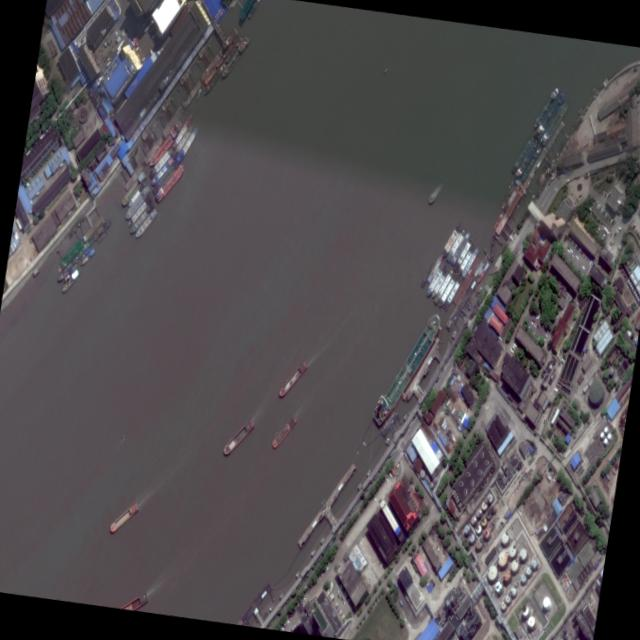ship: (372, 311, 444, 429), (203, 35, 244, 98), (534, 90, 566, 141), (539, 99, 569, 148), (204, 41, 235, 86), (155, 162, 186, 204), (222, 418, 255, 457), (221, 36, 249, 80), (533, 86, 560, 129), (278, 360, 307, 399), (125, 184, 151, 222), (515, 138, 538, 180), (129, 200, 155, 237), (109, 502, 139, 534), (121, 171, 146, 208), (176, 125, 199, 165), (149, 133, 174, 169), (152, 162, 178, 196), (520, 144, 542, 184), (127, 194, 152, 229), (271, 415, 296, 450), (172, 122, 195, 160), (512, 135, 534, 174), (172, 111, 194, 150), (149, 146, 174, 180), (151, 154, 175, 188), (433, 268, 454, 306), (60, 237, 84, 270), (438, 272, 459, 309), (426, 261, 446, 299), (453, 237, 474, 273), (446, 227, 467, 263), (442, 222, 463, 258), (135, 208, 157, 241), (443, 275, 463, 311), (451, 231, 471, 266), (461, 246, 480, 280), (457, 243, 476, 276), (83, 215, 105, 243), (61, 267, 81, 296), (431, 268, 449, 300), (427, 253, 444, 285), (58, 256, 78, 283), (427, 178, 446, 206), (120, 593, 148, 611), (128, 181, 146, 208), (503, 185, 520, 213), (93, 217, 112, 242), (76, 238, 94, 261), (501, 182, 516, 209), (420, 261, 435, 288), (63, 262, 78, 284), (474, 255, 488, 278), (80, 247, 96, 267), (477, 263, 490, 284), (493, 212, 505, 231), (478, 260, 488, 277), (80, 247, 91, 261), (493, 232, 503, 247), (483, 246, 491, 261), (98, 232, 107, 244), (491, 237, 495, 262), (196, 88, 202, 102)
small-vehicle: (498, 335, 503, 342), (389, 472, 393, 479), (596, 203, 600, 209), (634, 227, 638, 232), (583, 254, 587, 259), (571, 253, 575, 258), (592, 212, 596, 217), (595, 217, 599, 222), (341, 615, 345, 620), (292, 610, 296, 615), (290, 612, 294, 617), (287, 615, 291, 620), (561, 358, 565, 363), (367, 577, 371, 582), (598, 204, 601, 210), (600, 207, 603, 213), (537, 314, 540, 320), (332, 597, 335, 603), (386, 477, 389, 483), (337, 609, 341, 613), (301, 598, 305, 602), (284, 621, 288, 625), (283, 623, 287, 627), (591, 211, 594, 216), (614, 233, 617, 238), (611, 239, 614, 244), (616, 250, 619, 255), (590, 260, 593, 265), (581, 251, 584, 256), (577, 246, 580, 251), (576, 245, 579, 250), (573, 242, 576, 247), (570, 238, 573, 243), (570, 249, 573, 254), (582, 265, 585, 270), (616, 229, 619, 234), (567, 249, 570, 254), (604, 193, 607, 198), (599, 206, 602, 211), (601, 209, 604, 214), (602, 211, 605, 216), (605, 213, 608, 218), (606, 214, 609, 219), (610, 219, 613, 224), (612, 221, 615, 226), (597, 218, 600, 223), (595, 215, 598, 220), (576, 255, 579, 260), (338, 610, 341, 615), (335, 602, 338, 607), (331, 595, 334, 600), (330, 593, 333, 598), (289, 613, 292, 618), (286, 619, 289, 624), (339, 583, 342, 588), (536, 313, 539, 318), (340, 585, 343, 590), (531, 321, 534, 326), (545, 333, 548, 338), (379, 498, 382, 503), (379, 561, 382, 566), (345, 594, 348, 599), (344, 592, 347, 597), (615, 232, 618, 236), (608, 245, 611, 249), (607, 247, 610, 251), (586, 256, 588, 262), (579, 250, 582, 254), (578, 248, 581, 252), (636, 232, 639, 236), (637, 233, 640, 237), (607, 216, 610, 220), (598, 220, 601, 224), (341, 597, 344, 601), (340, 612, 343, 616), (336, 605, 339, 609), (304, 595, 308, 598), (337, 595, 340, 599), (532, 319, 535, 323), (534, 324, 537, 328), (537, 325, 540, 329), (543, 338, 546, 342), (373, 497, 376, 501), (380, 563, 383, 567), (347, 598, 350, 602), (343, 591, 346, 595), (610, 233, 612, 238), (594, 214, 596, 219), (343, 601, 345, 606), (303, 597, 306, 600), (575, 244, 577, 248), (568, 247, 570, 251), (635, 230, 637, 234), (638, 235, 640, 239), (337, 590, 339, 594), (535, 322, 537, 326), (561, 361, 563, 365), (638, 238, 640, 241)
storage-tank: (587, 380, 604, 404), (487, 565, 498, 581), (497, 551, 508, 567), (519, 547, 528, 561), (508, 545, 517, 558), (501, 532, 510, 544), (527, 616, 536, 628), (521, 605, 530, 617), (511, 559, 519, 572), (542, 596, 550, 608), (503, 570, 511, 582), (495, 581, 503, 593), (475, 538, 483, 549), (468, 533, 476, 543), (483, 528, 490, 539), (470, 516, 477, 526), (475, 524, 482, 534), (464, 524, 471, 534), (531, 559, 538, 569), (520, 573, 527, 583), (500, 600, 507, 610), (487, 493, 494, 502), (481, 501, 488, 510), (476, 508, 483, 517), (481, 517, 488, 526), (510, 587, 517, 596), (505, 594, 512, 603), (419, 469, 426, 478), (526, 566, 532, 575), (609, 366, 615, 375), (486, 511, 492, 519), (613, 375, 619, 383), (429, 482, 434, 489), (607, 433, 612, 439), (600, 432, 604, 438), (604, 438, 608, 444), (604, 427, 608, 432)
